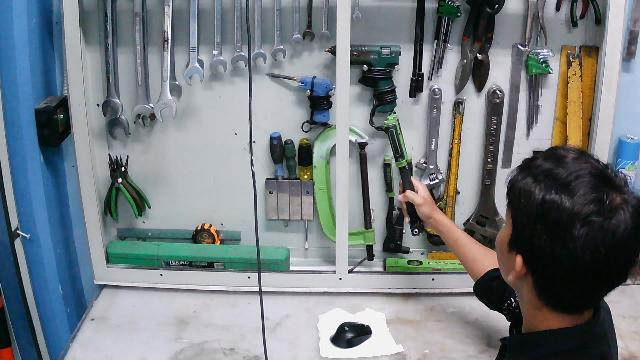tang_rivet: (382, 110, 425, 238)
